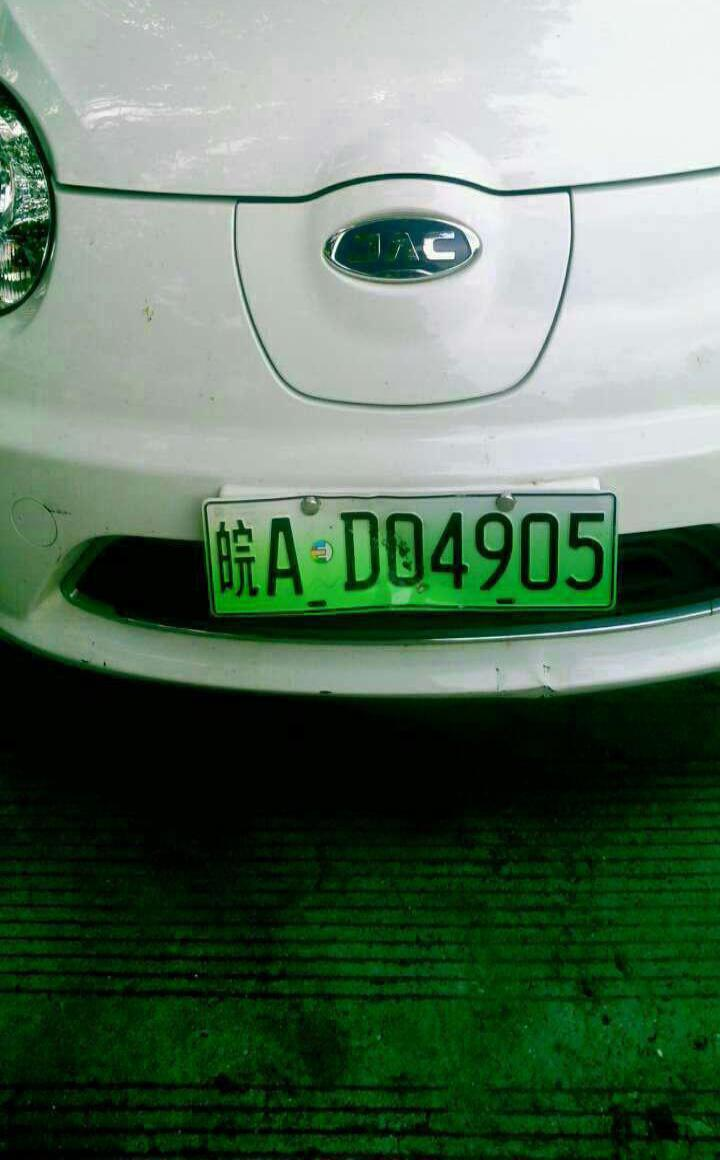car_id: (205, 496, 613, 606)
